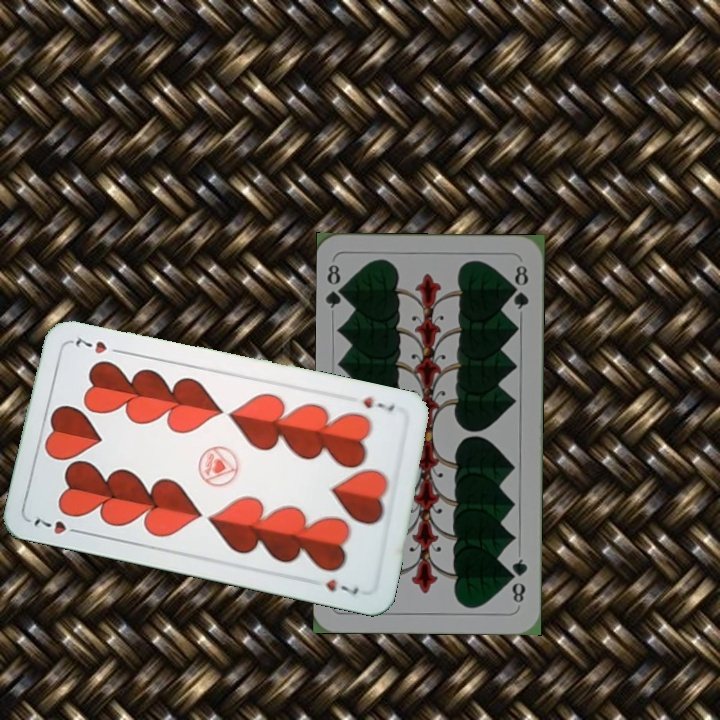G8: (323, 261, 350, 311), (506, 554, 530, 605)
H7: (29, 513, 86, 537), (358, 393, 397, 414)
